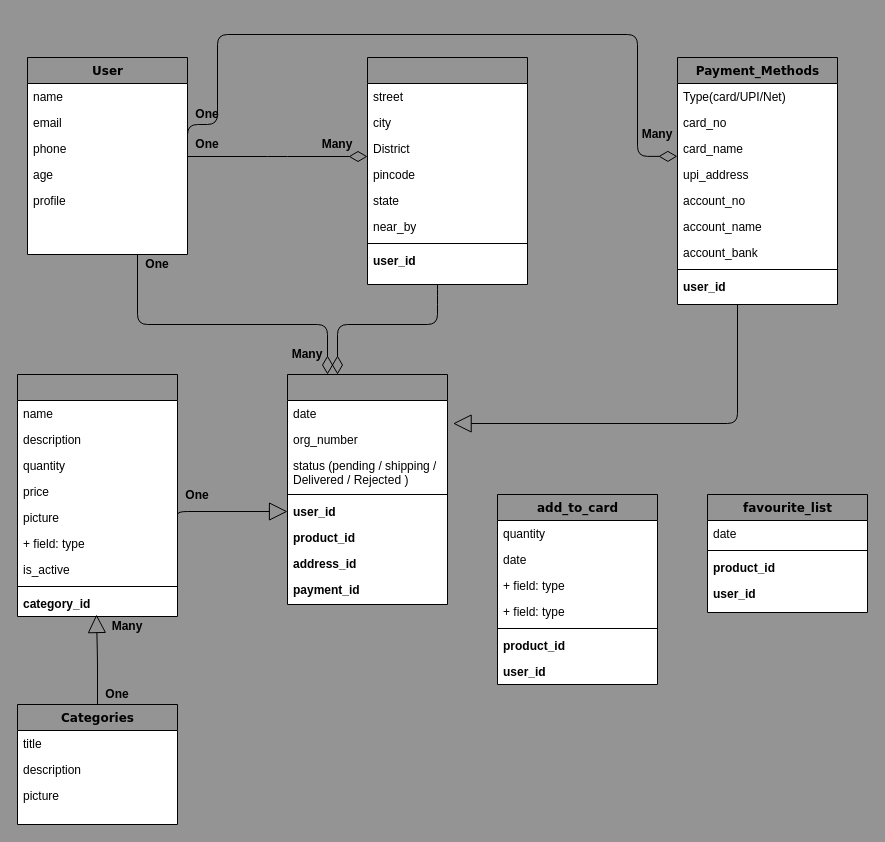
Some shapes in this 885 by 842 pixel diagram are drawn without their labels. Each missing label, with the box of its shape:
Address: (366, 56, 528, 284)
Oders: (286, 374, 448, 604)
Products: (16, 374, 178, 616)
